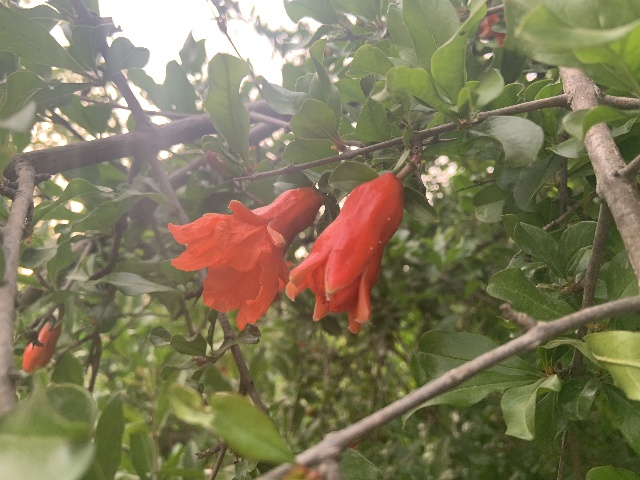bud: (21, 321, 60, 374)
flower: (167, 186, 323, 330), (286, 173, 405, 333)
